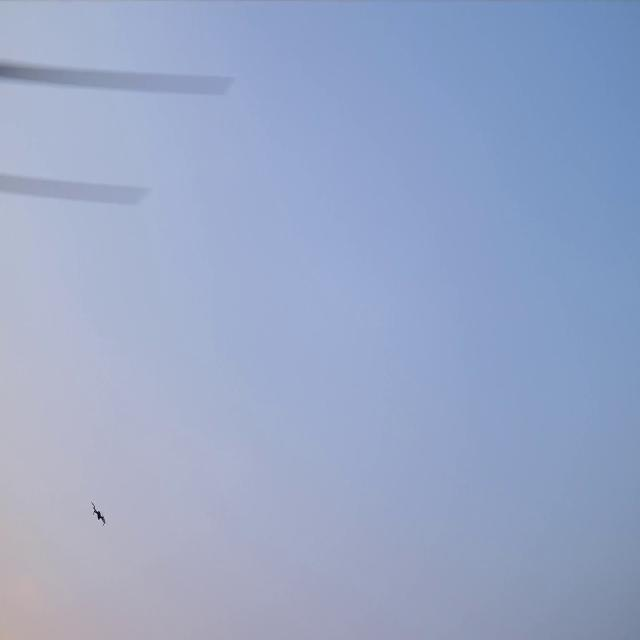UAV: (90, 498, 108, 528)
